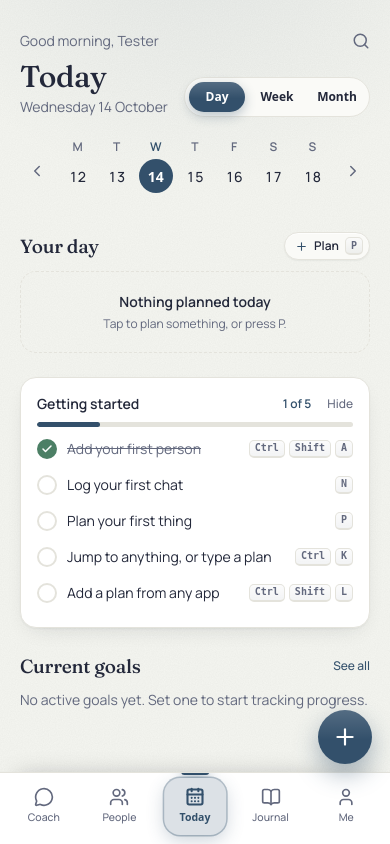
it: P1 progressive "More details" when logging › stays out of the way: each extra is a chip until you open it
Click the button with class "fab-btn" at (345, 737), box [318,710,372,764]
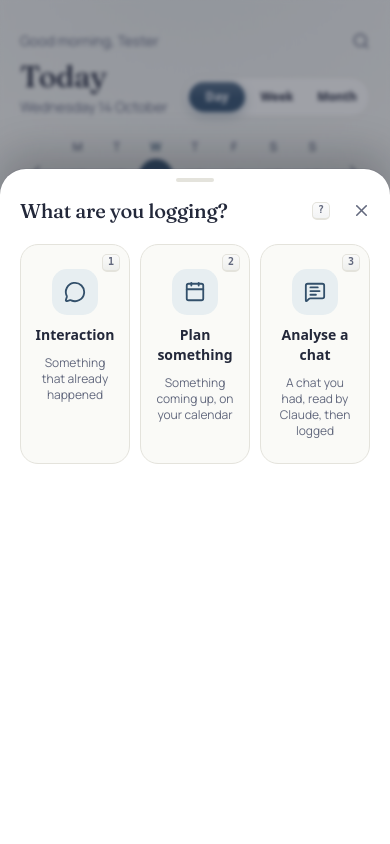
Click the button "1 Interaction Something that already happened" at (75, 354), box [20,244,130,464]
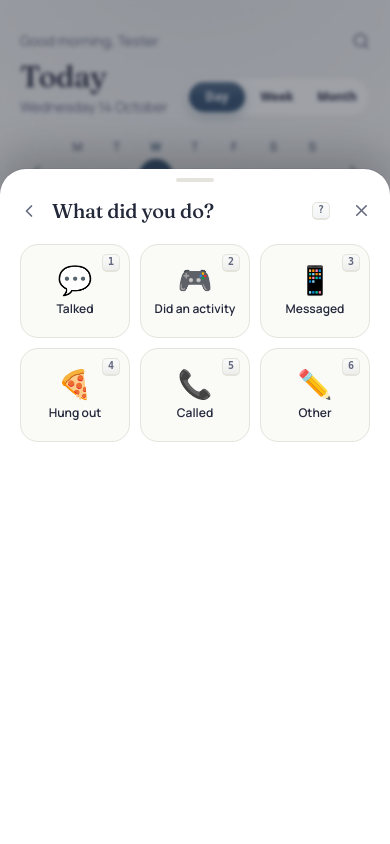
Click the button "1 💬 Talked" at (75, 291), box [20,244,130,338]
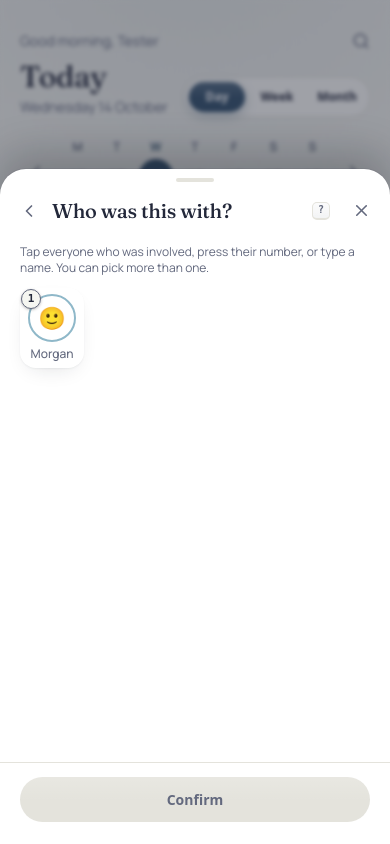
Click the button "1 🙂 Morgan" at (52, 328), box [20,288,84,368]
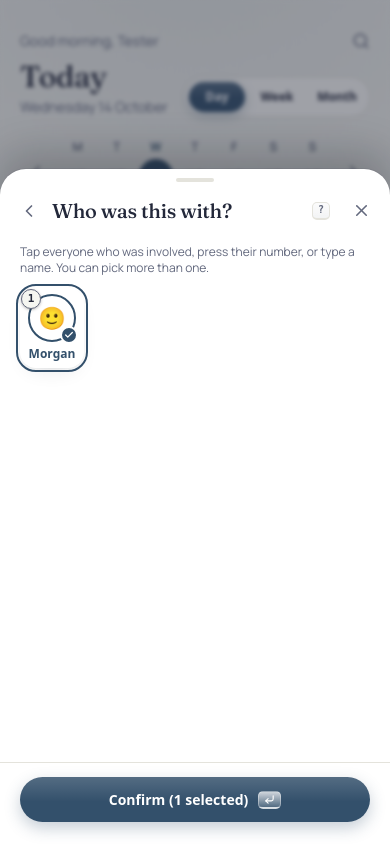
Click the button "Confirm (1 selected)" at (195, 800), box [20,777,370,822]
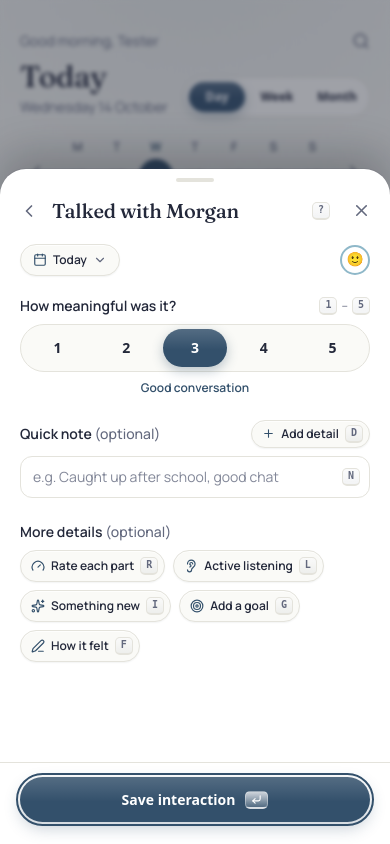
Check: the button "Rate each part R" is shown, box [20,550,165,582]
Check: the button "Active listening L" is shown, box [173,550,324,582]
Check: the button "Something new I" is shown, box [20,590,171,622]
